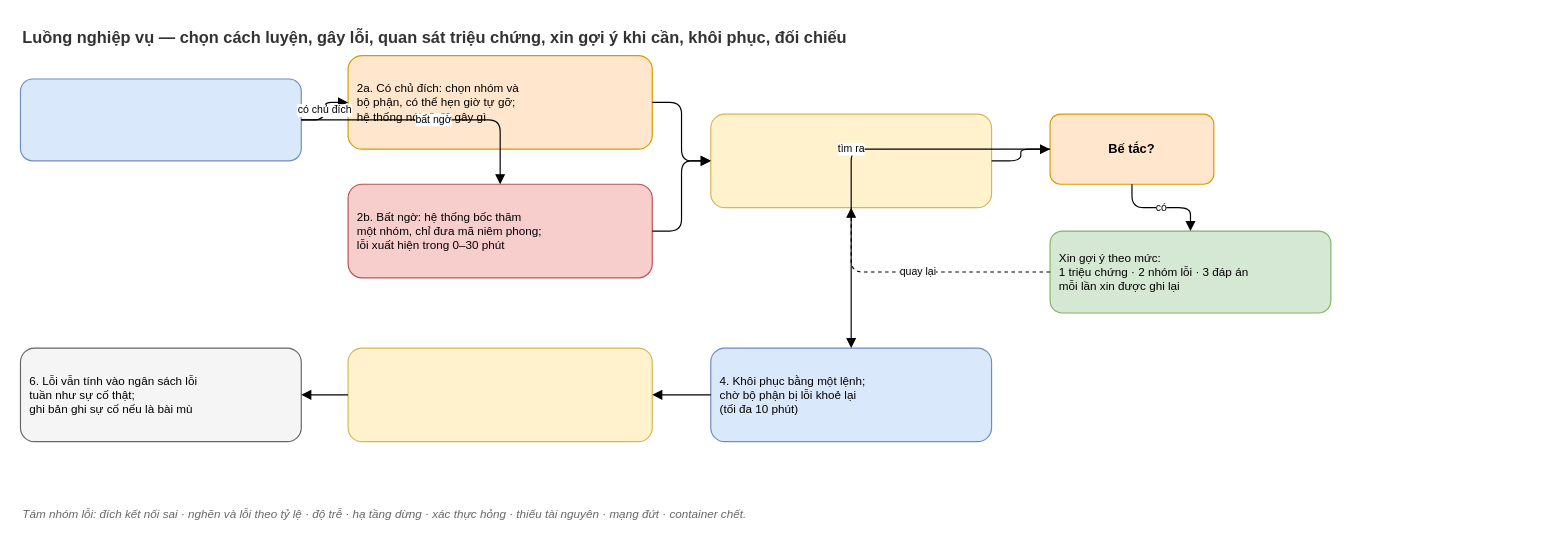
The diagram is 1562 pixels wide and 555 high, and some of its shapes have lost their labels. The centre of each missing label's shape, as x and y in pixels:
"1. Chọn cách luyện: có chủ đích theo nhóm hoặc bất ngờ không báo trước" goes at [160,119].
"3. Quan sát triệu chứng trên màn hình theo dõi và tự tìm nguyên nhân" goes at [851,160].
"5. Mở niêm phong, đối chiếu với nguyên nhân tự tìm ra; xem số lần xin gợi ý" goes at [499,394].
